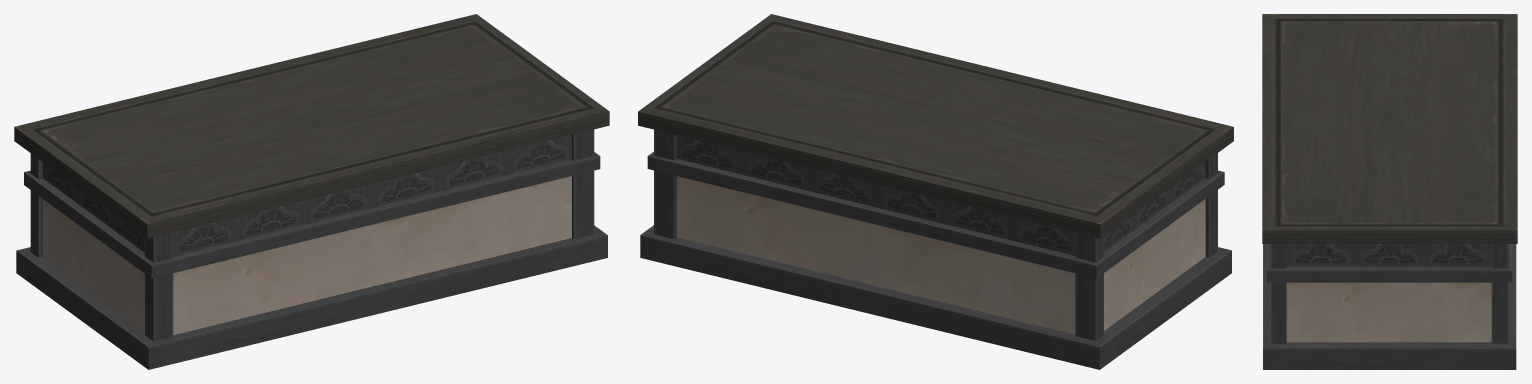
File: Homeworld_Interior_Dq_Table_Teahousetable_02_Vo.fbx
3 views of the same model, side by side, from view 1: azimuth 30°, elevation 25°; view 2: azimuth 150°, elevation 25°; view 3: azimuth 270°, elevation 25° (orthographic). The views are drawn at different scales.
Parts seen in each view (by area): view 1: Indoor_Dq_Build_Comp_Teahousetable_02_Vo; view 2: Indoor_Dq_Build_Comp_Teahousetable_02_Vo; view 3: Indoor_Dq_Build_Comp_Teahousetable_02_Vo.
Boxes of the visible parts, left/top/right/bottom form: Indoor_Dq_Build_Comp_Teahousetable_02_Vo: left=14, top=14, right=609, bottom=369; Indoor_Dq_Build_Comp_Teahousetable_02_Vo: left=638, top=14, right=1233, bottom=369; Indoor_Dq_Build_Comp_Teahousetable_02_Vo: left=1262, top=14, right=1517, bottom=369.
Bounding box in the file's own units: 2.74 × 0.8287 × 1.37.
